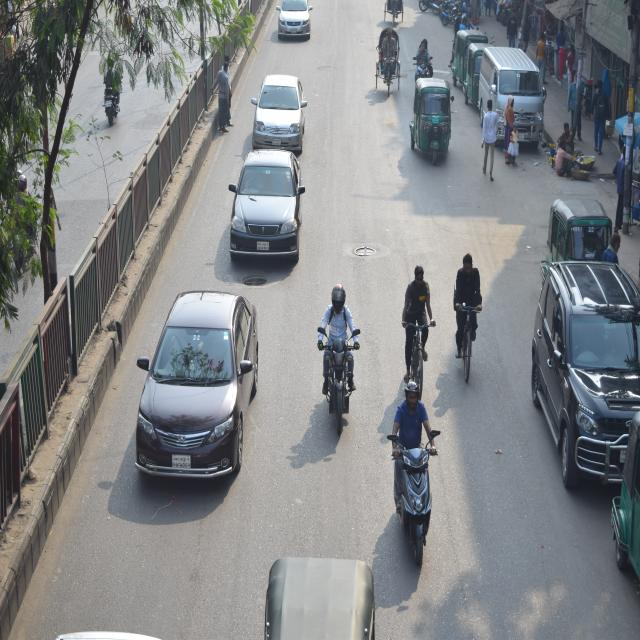car: (136, 279, 278, 486), (532, 270, 640, 472), (227, 135, 303, 269), (256, 75, 305, 174), (276, 1, 322, 28)
microbus: (469, 37, 552, 154)
motorbike: (392, 374, 445, 566), (320, 292, 358, 417), (97, 61, 128, 136), (417, 44, 461, 96)
